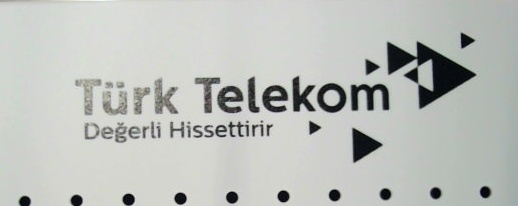AQ_TURKTelekom: (68, 32, 479, 166)
